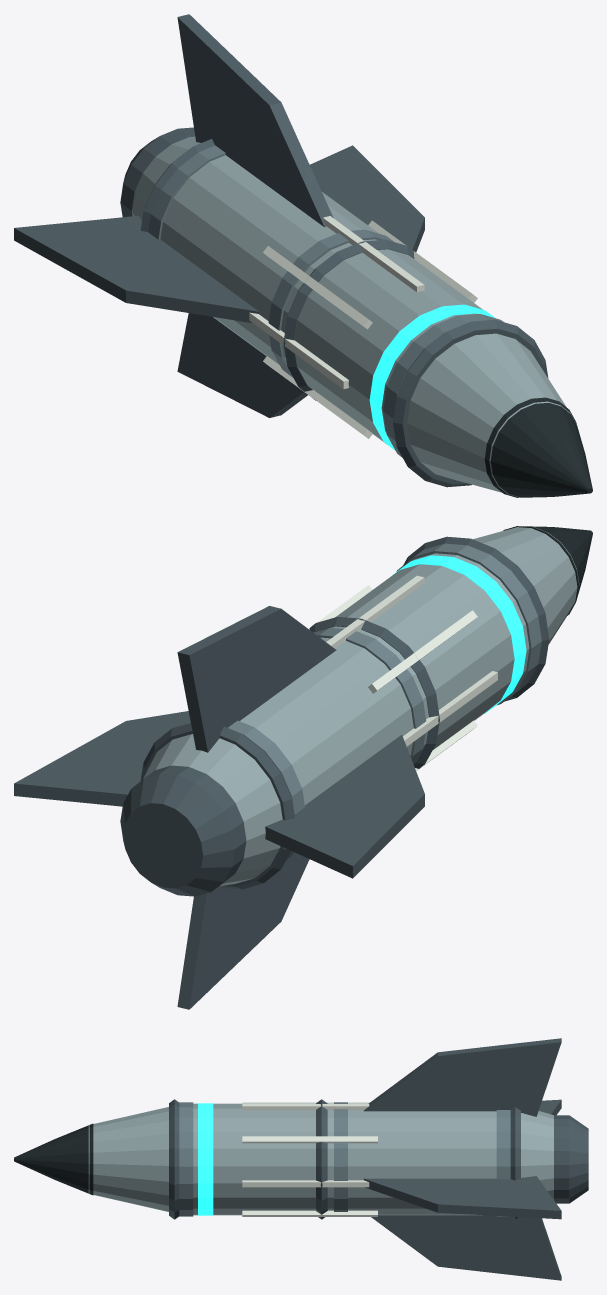
Rendered from talon.glb.
3 views of the same model, one above another, from view 1: azimuth 30°, elevation 25°; view 2: azimuth 150°, elevation 25°; view 3: azimuth 270°, elevation 25° (orthographic). The views are drawn at different scales.
Parts seen in each view (by area): view 1: Collar edge bevel, Tapered missile shell, Dark nose cap, Casing collar, Body service strip, Cyan identification band; view 2: Collar edge bevel, Tapered missile shell, Casing collar, Body service strip, Cyan identification band, Dark nose cap; view 3: Tapered missile shell, Collar edge bevel, Casing collar, Body service strip, Dark nose cap, Cyan identification band.
Part boxes in pixels (box(x1,y1,x2,y2)): Collar edge bevel: box(14, 14, 548, 487); Tapered missile shell: box(132, 136, 576, 497); Dark nose cap: box(484, 397, 592, 497); Casing collar: box(148, 145, 503, 457); Body service strip: box(249, 216, 477, 438); Cyan identification band: box(369, 304, 495, 451); Collar edge bevel: box(14, 536, 549, 1009); Tapered missile shell: box(142, 526, 579, 886); Casing collar: box(185, 543, 541, 860); Body service strip: box(309, 575, 497, 770); Cyan identification band: box(392, 555, 526, 713); Dark nose cap: box(503, 526, 592, 615); Tapered missile shell: box(88, 1103, 553, 1215); Collar edge bevel: box(169, 1038, 588, 1280); Casing collar: box(179, 1102, 510, 1216); Body service strip: box(242, 1102, 377, 1216); Dark nose cap: box(14, 1123, 93, 1195); Cyan identification band: box(198, 1103, 213, 1215).
Bounding box in the file's own units: 0.68 × 0.68 × 1.5.
